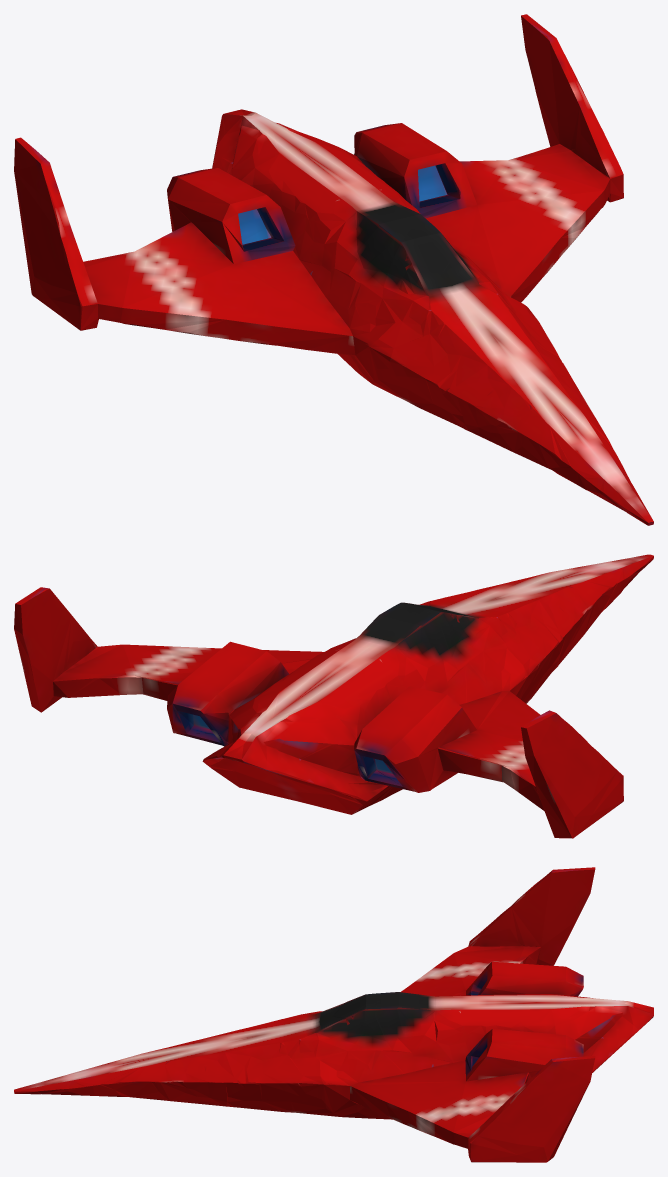
The picture shows the model from 3 angles, top to bottom: view 1: azimuth 30°, elevation 25°; view 2: azimuth 150°, elevation 25°; view 3: azimuth 270°, elevation 25°; orthographic projection. The views are drawn at different scales.
Bounding box in the file's own units: 0.7938 × 0.2523 × 1.06.
Materials: 1 (1 with a texture image).
